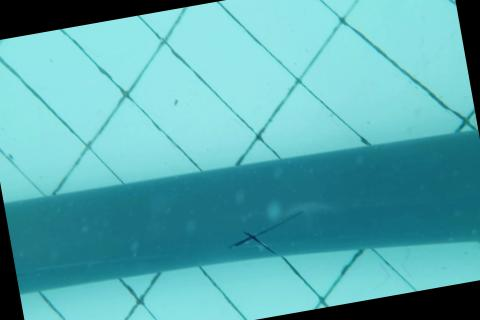keretakan: (224, 208, 310, 263)
